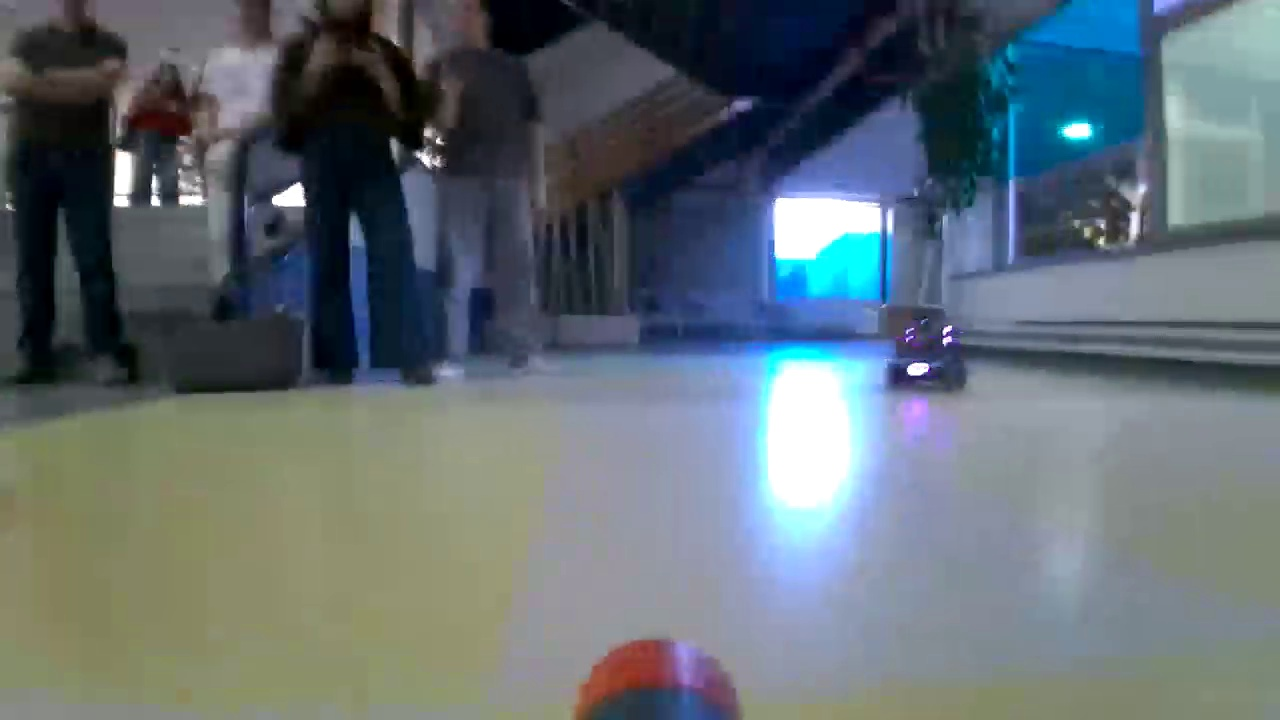robot: (884, 314, 970, 395)
